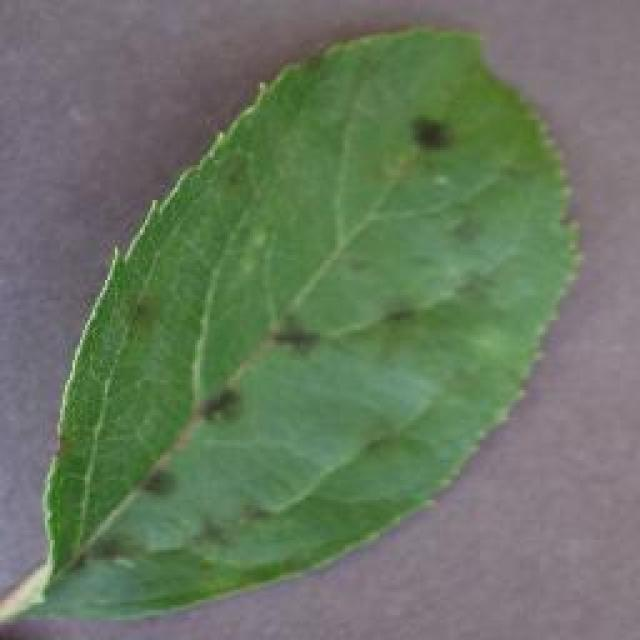apple scab disease: (3, 18, 585, 630)
